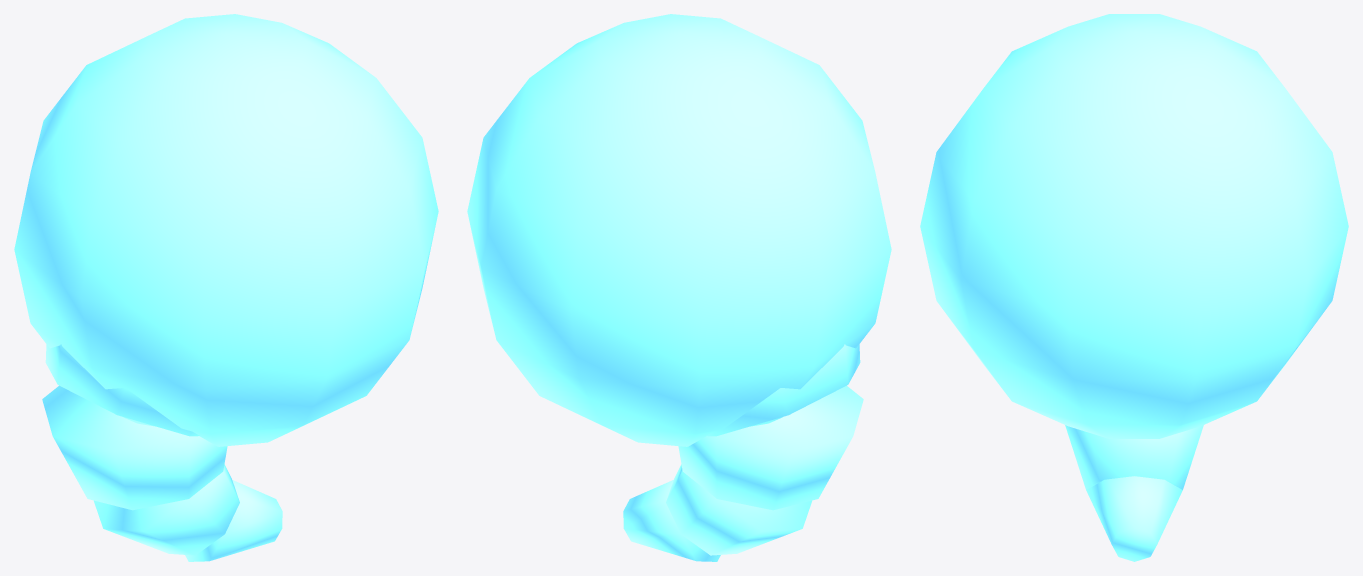
Rendered from gem.glb.
The picture shows the model from 3 angles, left to right: view 1: azimuth 30°, elevation 25°; view 2: azimuth 150°, elevation 25°; view 3: azimuth 270°, elevation 25°; orthographic projection.
Visible parts, largest first — view 1: Gem; view 2: Gem; view 3: Gem.
Boxes of the visible parts, x1,y1,x2,y2 form: Gem: [14, 14, 438, 561]; Gem: [467, 14, 891, 561]; Gem: [920, 14, 1348, 561].
Bounding box in the file's own units: 0.1617 × 0.2243 × 0.17.
